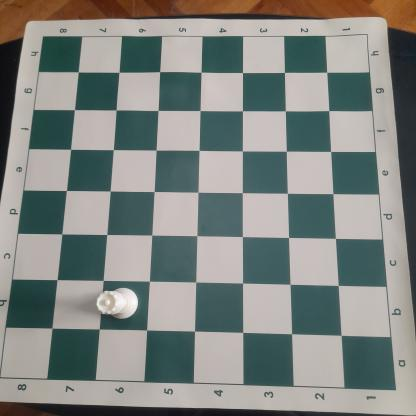white-queen: (94, 286, 140, 321)
